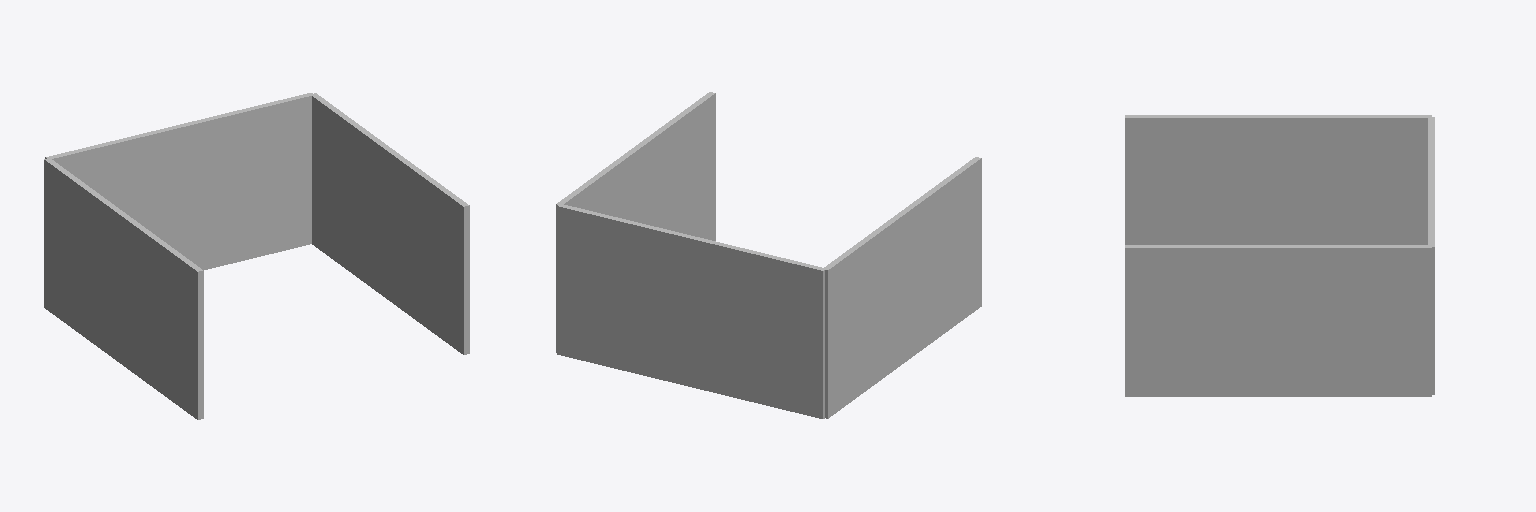
Rendered from Wall.obj.
3 views of the same model, side by side, from view 1: azimuth 30°, elevation 25°; view 2: azimuth 150°, elevation 25°; view 3: azimuth 270°, elevation 25° (orthographic).
Visible parts, largest first — view 1: BSP_Wall_1_Cube, BSP_Wall_2_Cube.001, BSP_Wall_3_Cube.002; view 2: BSP_Wall_1_Cube, BSP_Wall_2_Cube.001, BSP_Wall_3_Cube.002; view 3: BSP_Wall_3_Cube.002, BSP_Wall_2_Cube.001, BSP_Wall_1_Cube.
Boxes of the visible parts, x1=… form: BSP_Wall_1_Cube: x1=45, y1=93, x2=313, y2=269; BSP_Wall_2_Cube.001: x1=44, y1=158, x2=203, y2=419; BSP_Wall_3_Cube.002: x1=312, y1=93, x2=469, y2=354; BSP_Wall_1_Cube: x1=557, y1=204, x2=824, y2=418; BSP_Wall_2_Cube.001: x1=823, y1=157, x2=981, y2=418; BSP_Wall_3_Cube.002: x1=556, y1=92, x2=715, y2=352; BSP_Wall_3_Cube.002: x1=1125, y1=245, x2=1431, y2=396; BSP_Wall_2_Cube.001: x1=1125, y1=115, x2=1431, y2=244; BSP_Wall_1_Cube: x1=1428, y1=117, x2=1434, y2=394.
Bounding box in the file's own units: 46 × 24 × 45.5.